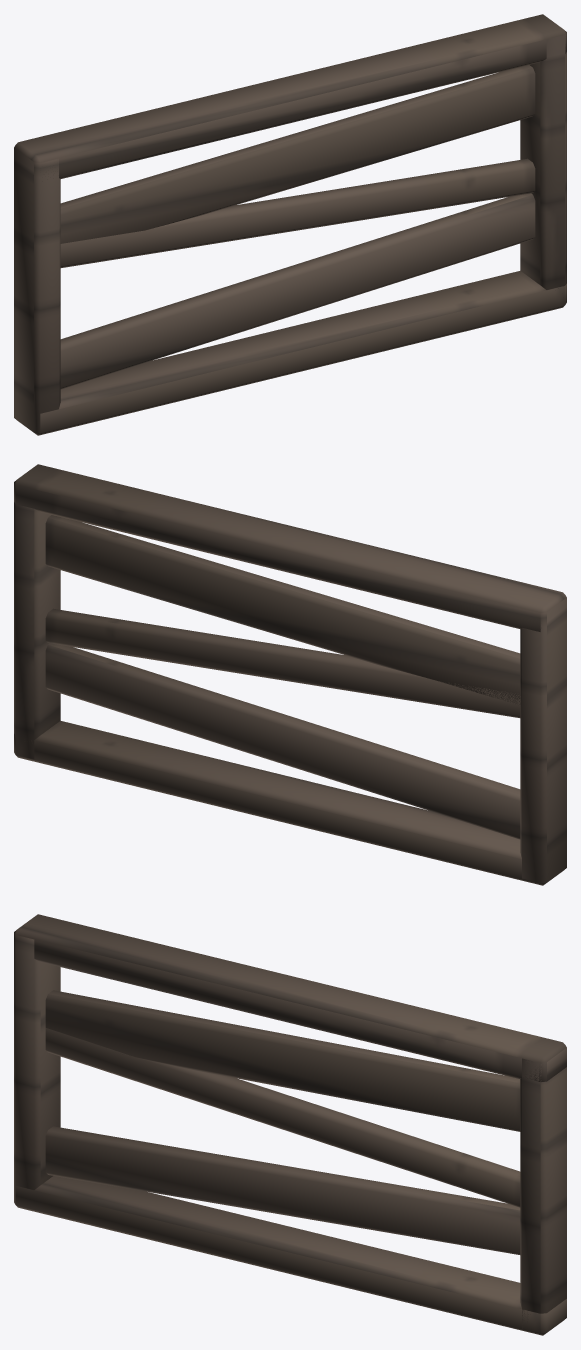
The model's file is WoodBarrier.fbx.
The picture shows the model from 3 angles, top to bottom: view 1: azimuth 30°, elevation 25°; view 2: azimuth 150°, elevation 25°; view 3: azimuth 330°, elevation 25°; orthographic projection.
Visible parts, largest first — view 1: Wood.009, Wood.006, Wood.007, Wood.010, Wood.011, Wood.008; view 2: Wood.009, Wood.006, Wood.007, Wood.010, Wood.011, Wood.008; view 3: Wood.006, Wood.009, Wood.010, Wood.007, Wood.011, Wood.008.
Part boxes in pixels (x1,y1,x2,y2): Wood.009: [60, 65, 535, 243]; Wood.006: [14, 14, 566, 178]; Wood.007: [60, 193, 535, 389]; Wood.010: [14, 270, 566, 435]; Wood.011: [14, 35, 566, 432]; Wood.008: [60, 158, 535, 267]; Wood.009: [45, 515, 520, 704]; Wood.006: [14, 464, 566, 631]; Wood.007: [45, 643, 520, 839]; Wood.010: [14, 720, 566, 885]; Wood.011: [14, 502, 566, 882]; Wood.008: [45, 608, 520, 717]; Wood.006: [14, 914, 566, 1081]; Wood.009: [45, 990, 520, 1131]; Wood.010: [15, 1176, 566, 1335]; Wood.007: [45, 1126, 520, 1254]; Wood.011: [14, 932, 566, 1328]; Wood.008: [45, 1028, 520, 1207].
Bounding box in the file's own units: 2 × 1 × 0.16.
1 material, 1 textured.
